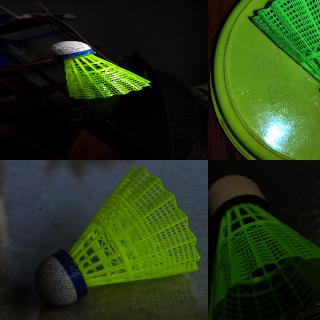shuttlecock: (33, 164, 199, 306), (208, 174, 319, 319), (248, 0, 319, 118), (50, 41, 151, 99)
